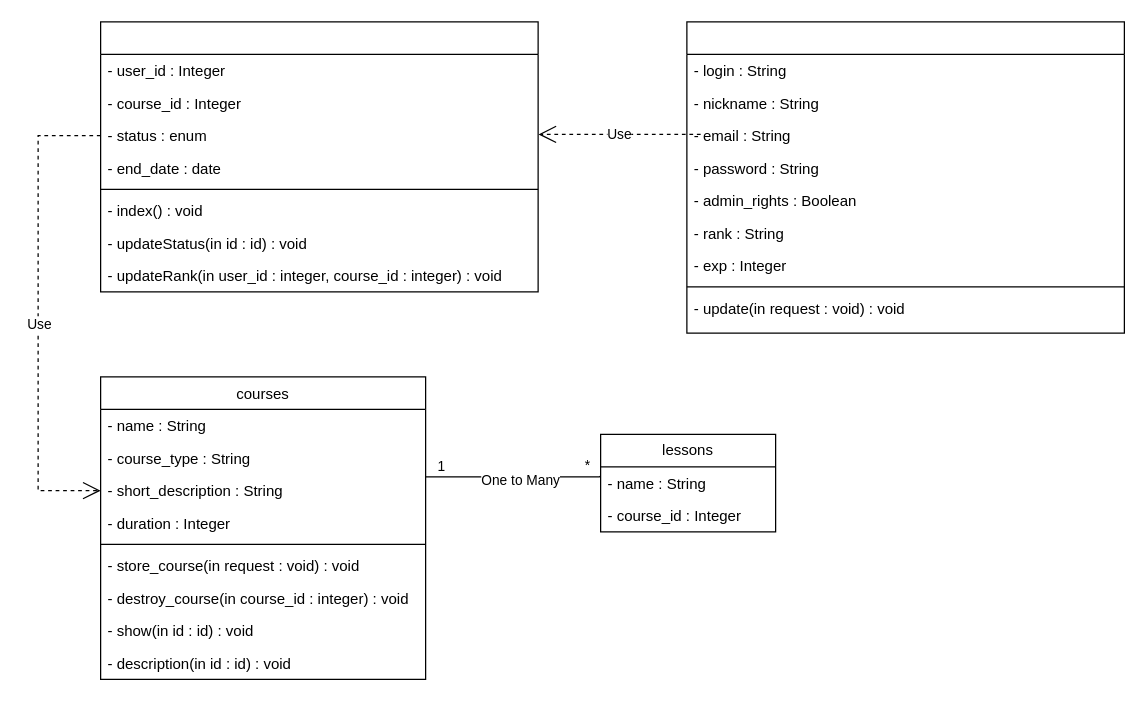
This 1146x705 diagram has some shape labels left out. The shapes that lost their labels are listed below. From the top down, each one's box as (x1, y1, x2, y2) in pixels, then its label:
(99, 21, 538, 292): users_courses
(686, 21, 1124, 333): users
